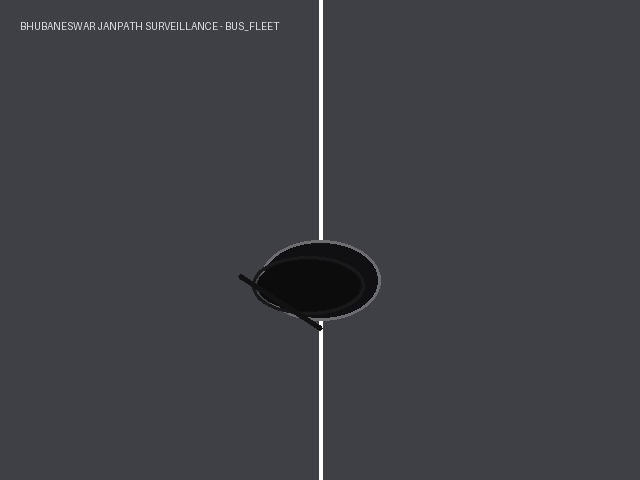crack: (234, 270, 326, 334)
pothole: (257, 260, 359, 310)
